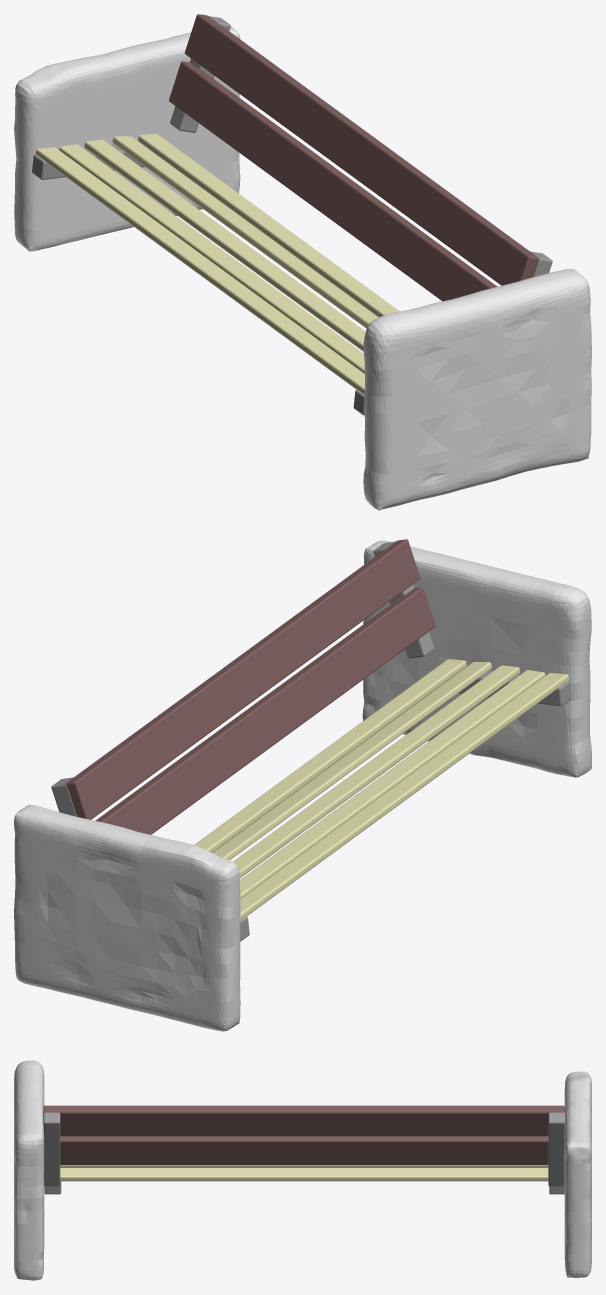
Rendered from BenchFinal.fbx.
3 renders of one model, top to bottom at view 1: azimuth 30°, elevation 25°; view 2: azimuth 150°, elevation 25°; view 3: azimuth 270°, elevation 25°, orthographic. The views are drawn at different scales.
Visible parts, largest first — view 1: Bench_sides, Bench_crossbeams_up, Bench_crossbeams_down, Bench_fastening; view 2: Bench_sides, Bench_crossbeams_up, Bench_crossbeams_down, Bench_fastening; view 3: Bench_crossbeams_up, Bench_sides, Bench_crossbeams_down, Bench_fastening.
Boxes of the visible parts, <box> form: Bench_sides: <box>14,26,591,510</box>; Bench_crossbeams_up: <box>169,14,539,301</box>; Bench_crossbeams_down: <box>36,133,399,394</box>; Bench_fastening: <box>32,16,552,415</box>; Bench_sides: <box>14,540,591,1031</box>; Bench_crossbeams_up: <box>65,539,435,834</box>; Bench_crossbeams_down: <box>194,659,568,919</box>; Bench_fastening: <box>51,541,571,941</box>; Bench_crossbeams_up: <box>43,1105,564,1164</box>; Bench_sides: <box>14,1060,591,1280</box>; Bench_crossbeams_down: <box>60,1165,548,1181</box>; Bench_fastening: <box>43,1112,565,1194</box>.
Size of the model in its own units: 671 by 598 by 1966.
